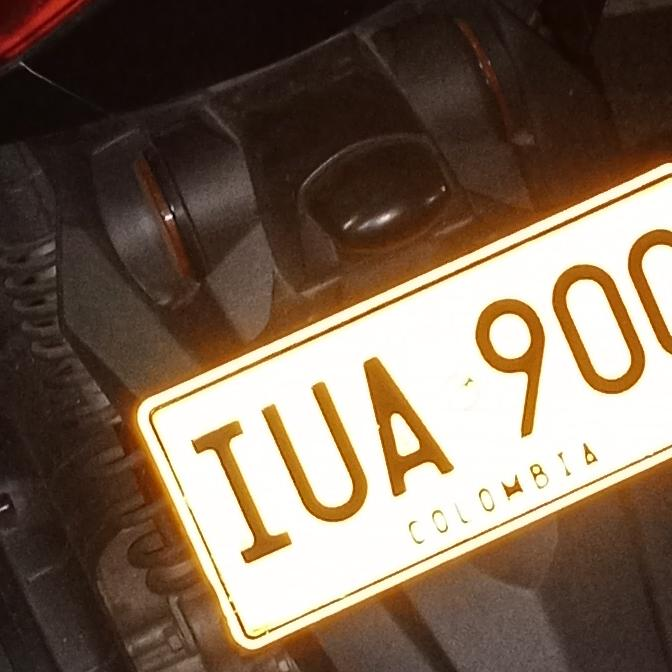plates: (116, 155, 672, 672)
